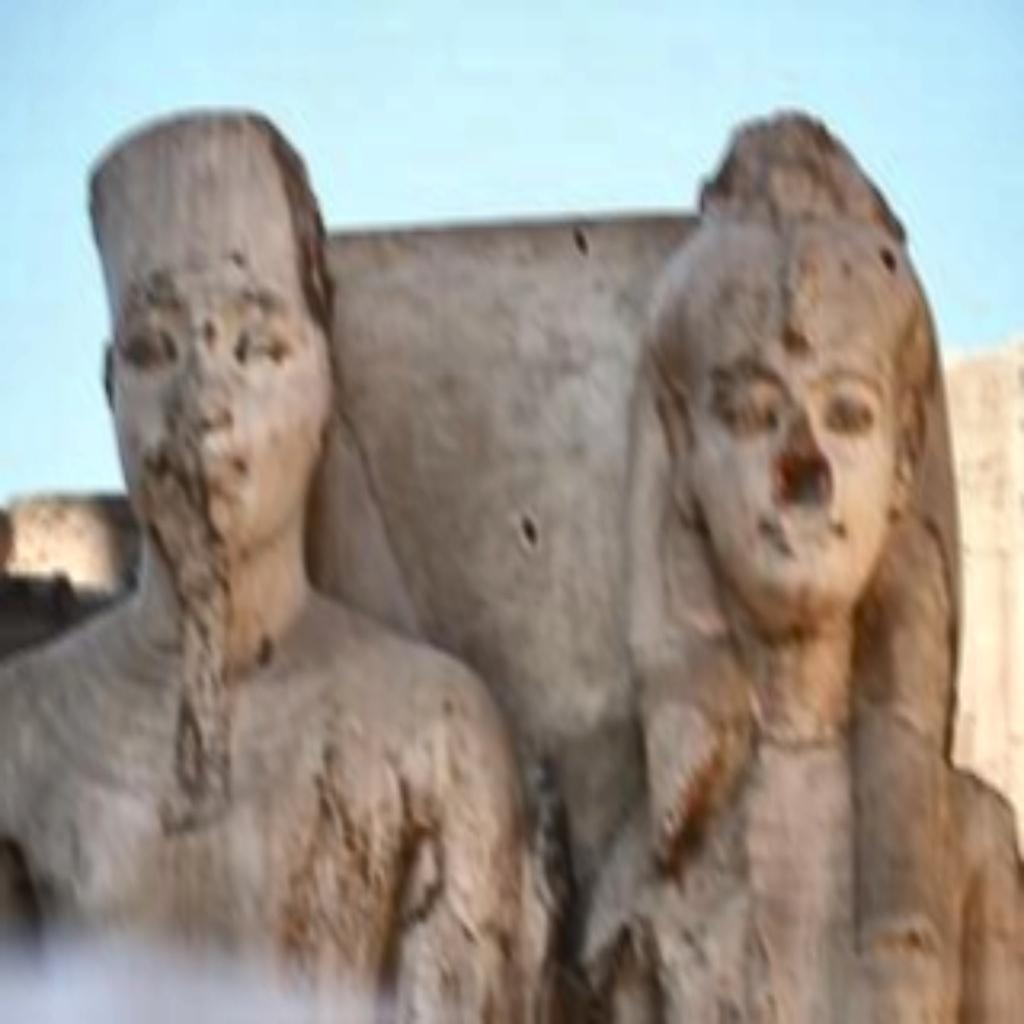Statue of Ankhesenamun: (557, 110, 1021, 1020)
Statue of Tutankhamun: (0, 106, 541, 1019)
